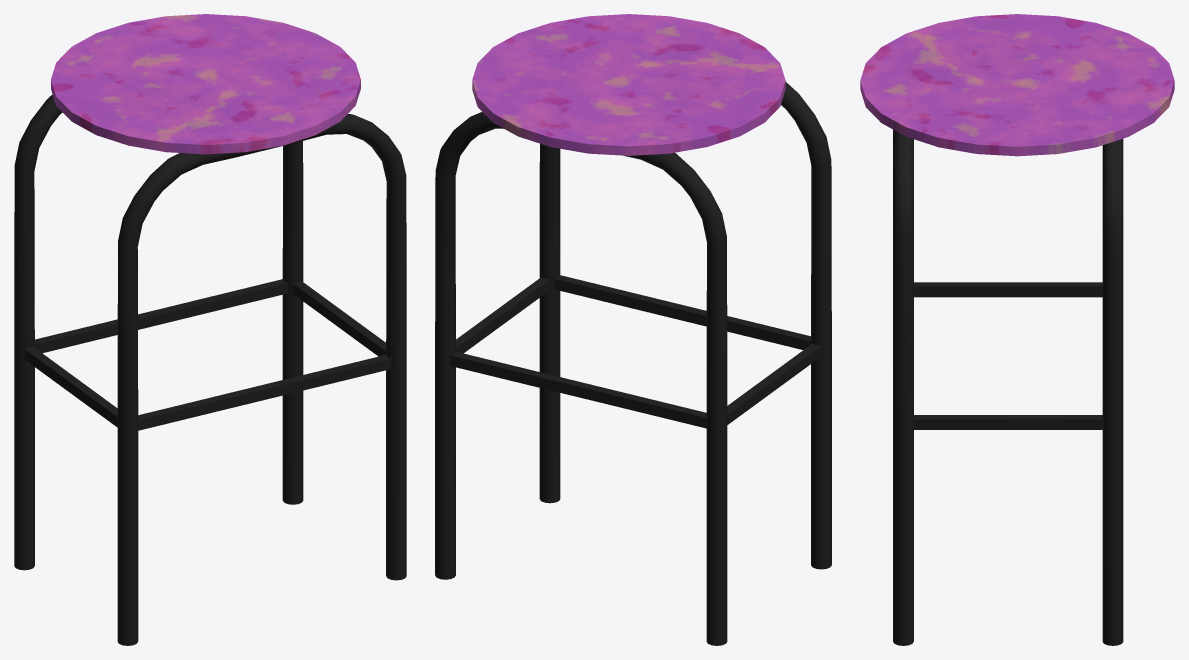
The model's file is PinkChair.fbx.
The picture shows the model from 3 angles, left to right: view 1: azimuth 30°, elevation 25°; view 2: azimuth 150°, elevation 25°; view 3: azimuth 270°, elevation 25°; orthographic projection.
Parts seen in each view (by area): view 1: Cylinder.058; view 2: Cylinder.058; view 3: Cylinder.058.
Boxes of the visible parts, <box> form: Cylinder.058: <box>14,14,406,645</box>; Cylinder.058: <box>435,14,831,645</box>; Cylinder.058: <box>860,14,1174,645</box>.
Size of the model in its own units: 0.32 by 0.3 by 0.5211.
1 material, 1 textured.
